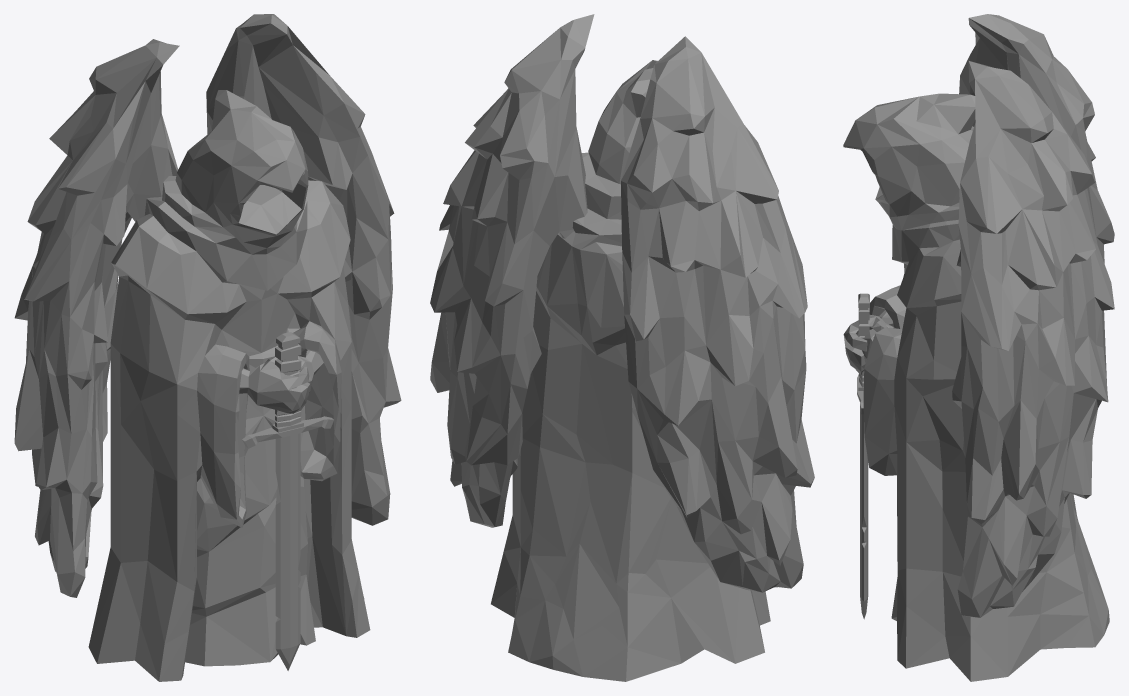
The model's file is Statue_00.FBX.
The picture shows the model from 3 angles, left to right: view 1: azimuth 30°, elevation 25°; view 2: azimuth 150°, elevation 25°; view 3: azimuth 270°, elevation 25°; orthographic projection. The views are drawn at different scales.
Parts seen in each view (by area): view 1: Statue_00; view 2: Statue_00; view 3: Statue_00.
Part boxes in pixels (x1,y1,x2,y2): Statue_00: (14,14,401,681); Statue_00: (430,14,814,681); Statue_00: (843,14,1114,681).
Size of the model in its own units: 2.13 by 3.31 by 1.41.
